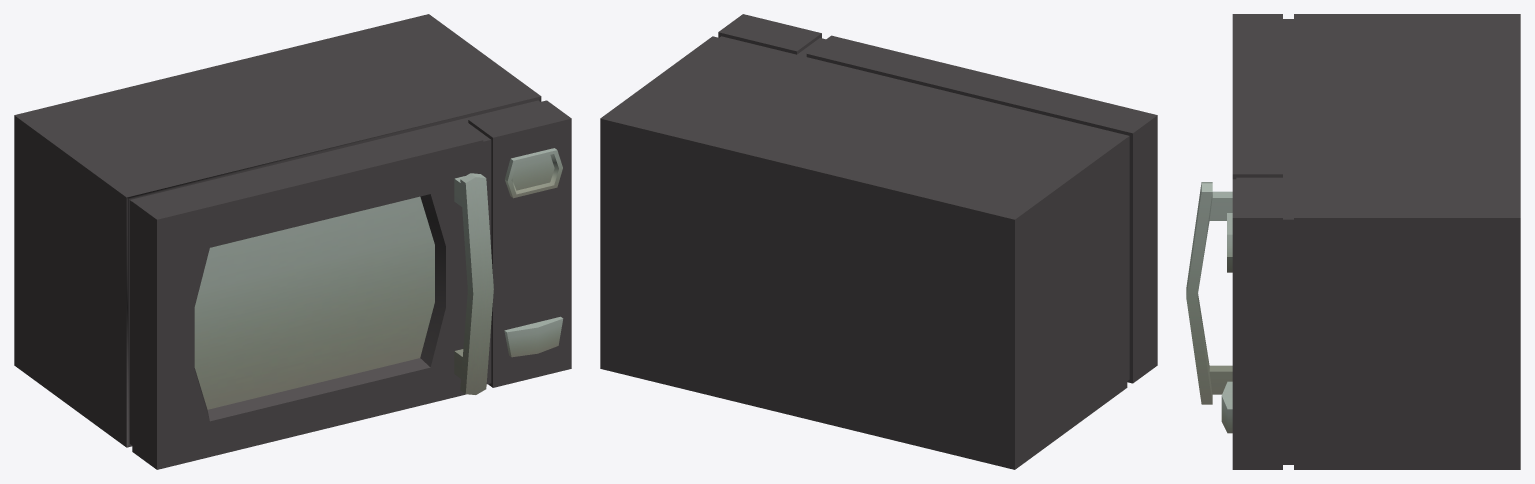
Rendered from SM_Microwave_01.fbx.
3 renders of one model, left to right at view 1: azimuth 30°, elevation 25°; view 2: azimuth 150°, elevation 25°; view 3: azimuth 270°, elevation 25°, orthographic.
Visible parts, largest first — view 1: SM_Microwave_01; view 2: SM_Microwave_01; view 3: SM_Microwave_01.
Boxes of the visible parts, x1,y1,x2,y2 form: SM_Microwave_01: (14, 14, 571, 469); SM_Microwave_01: (600, 14, 1157, 469); SM_Microwave_01: (1186, 14, 1520, 469).
Size of the model in its own units: 79.6 by 45.88 by 55.15.
